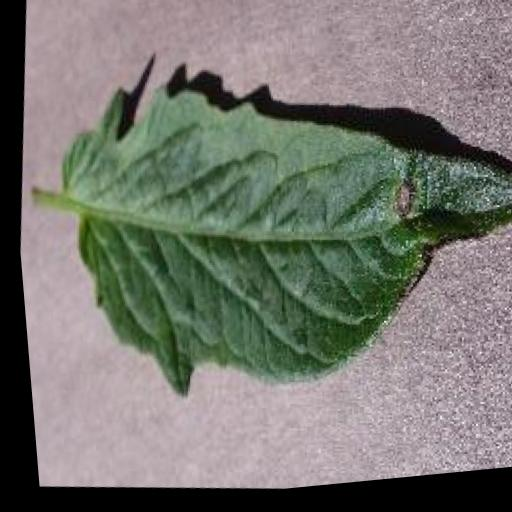Early Blight: (30, 51, 512, 438)
